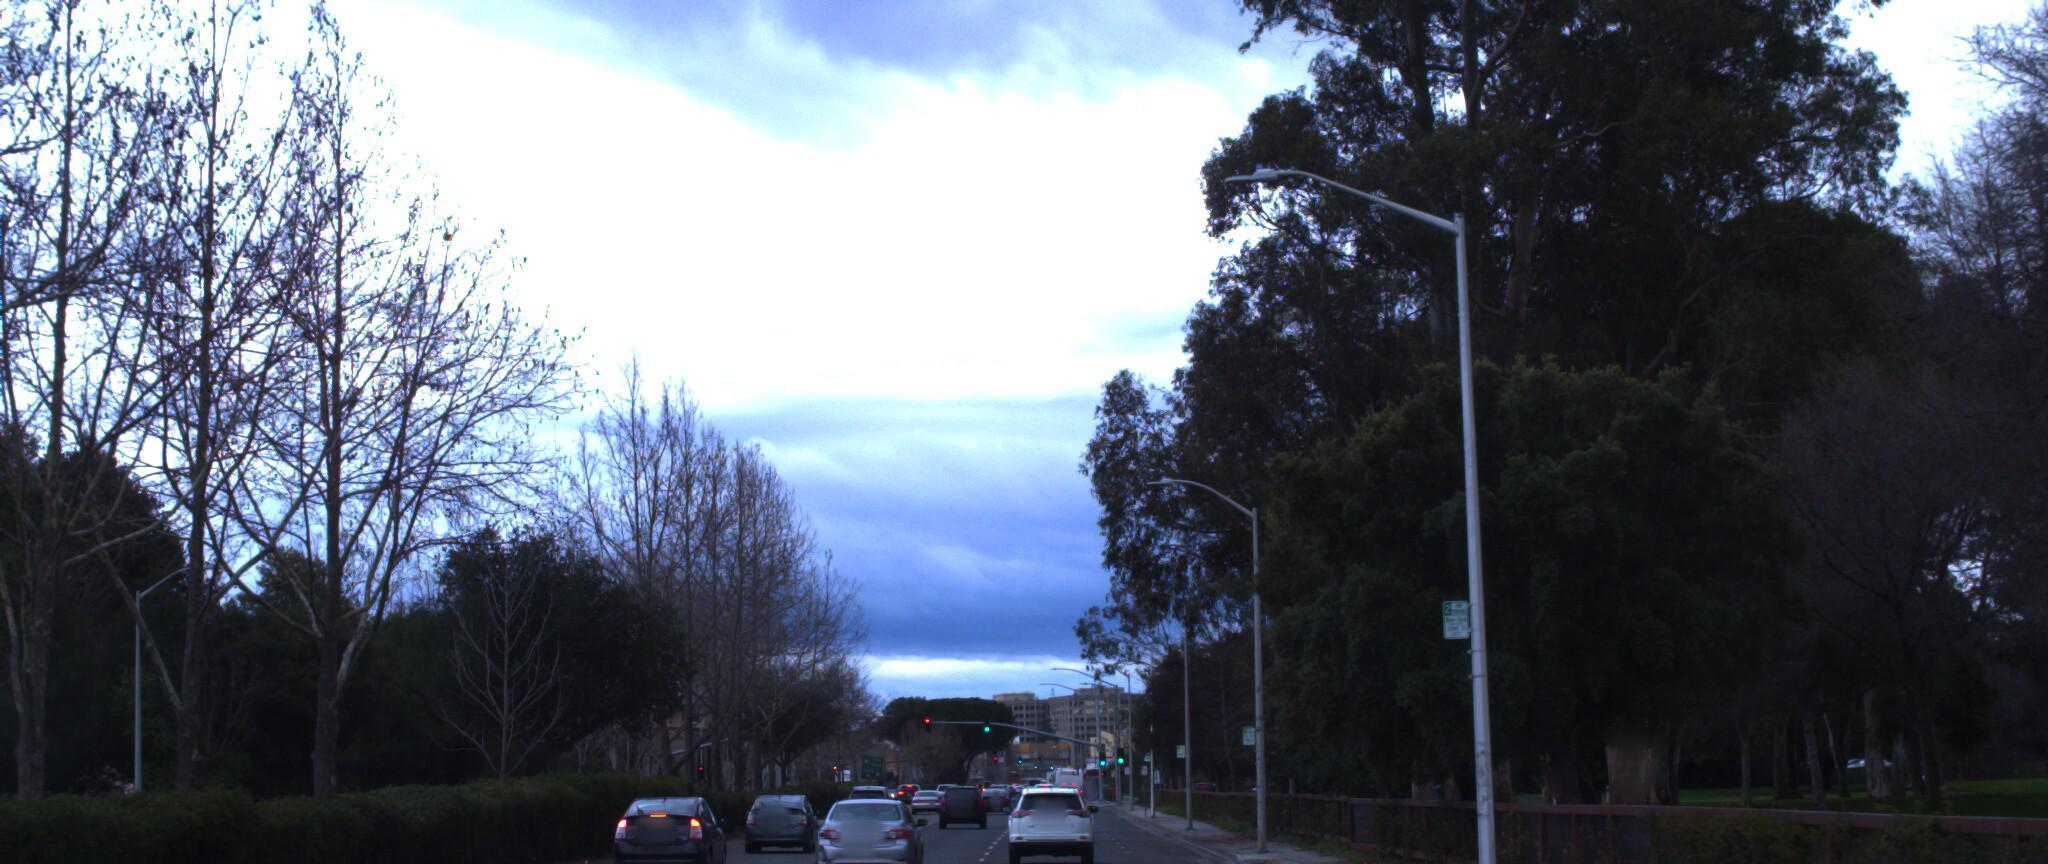car: (797, 780, 913, 864), (602, 788, 728, 864), (993, 780, 1081, 864)
